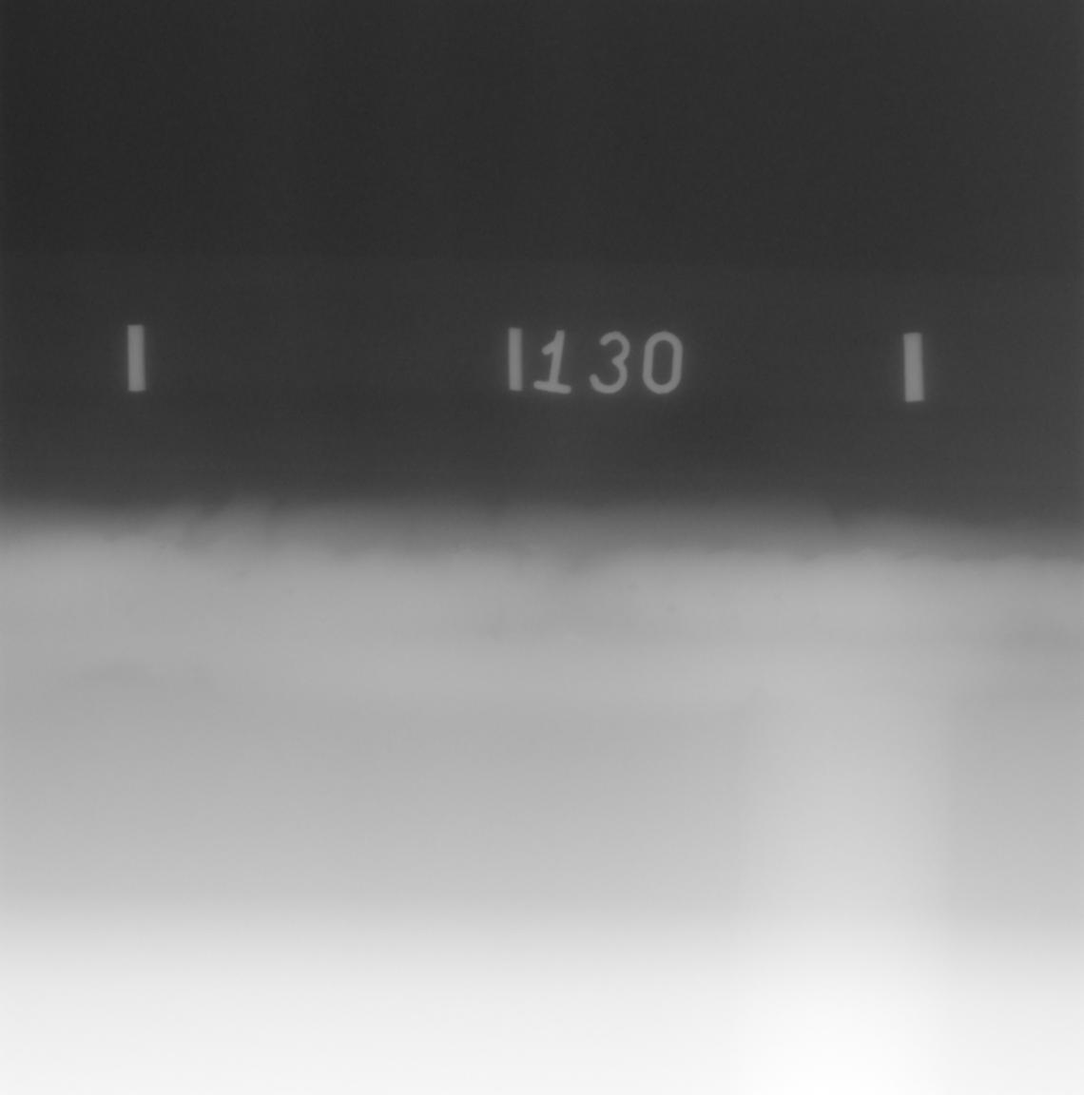Pore/Porosity: (450, 544, 465, 554), (668, 602, 678, 613), (235, 571, 247, 579), (629, 583, 638, 592), (773, 593, 780, 602), (154, 535, 163, 541), (167, 535, 173, 540), (159, 545, 166, 549), (289, 589, 294, 594)
